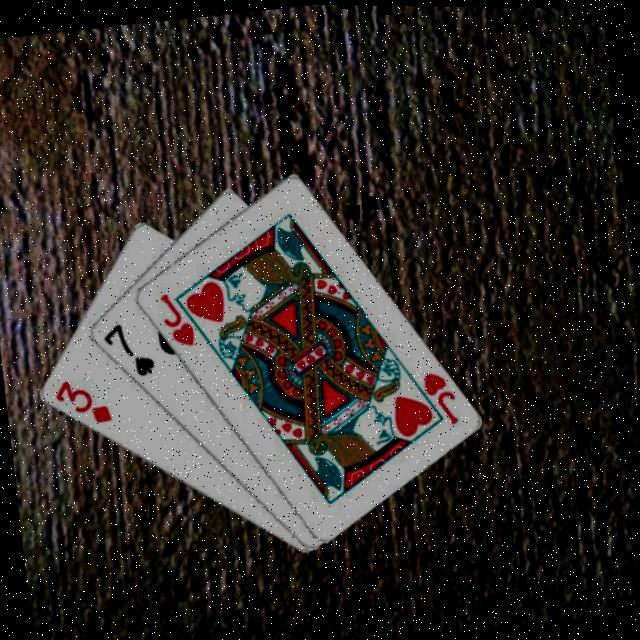3D: (48, 369, 114, 429)
7S: (95, 314, 156, 381)
JH: (153, 285, 196, 349), (417, 362, 460, 426)
